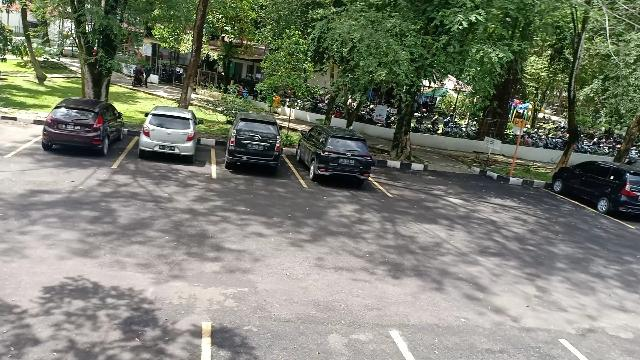occupied: (548, 160, 640, 226), (23, 116, 125, 168), (127, 124, 215, 176), (212, 126, 296, 180), (296, 134, 380, 188)
